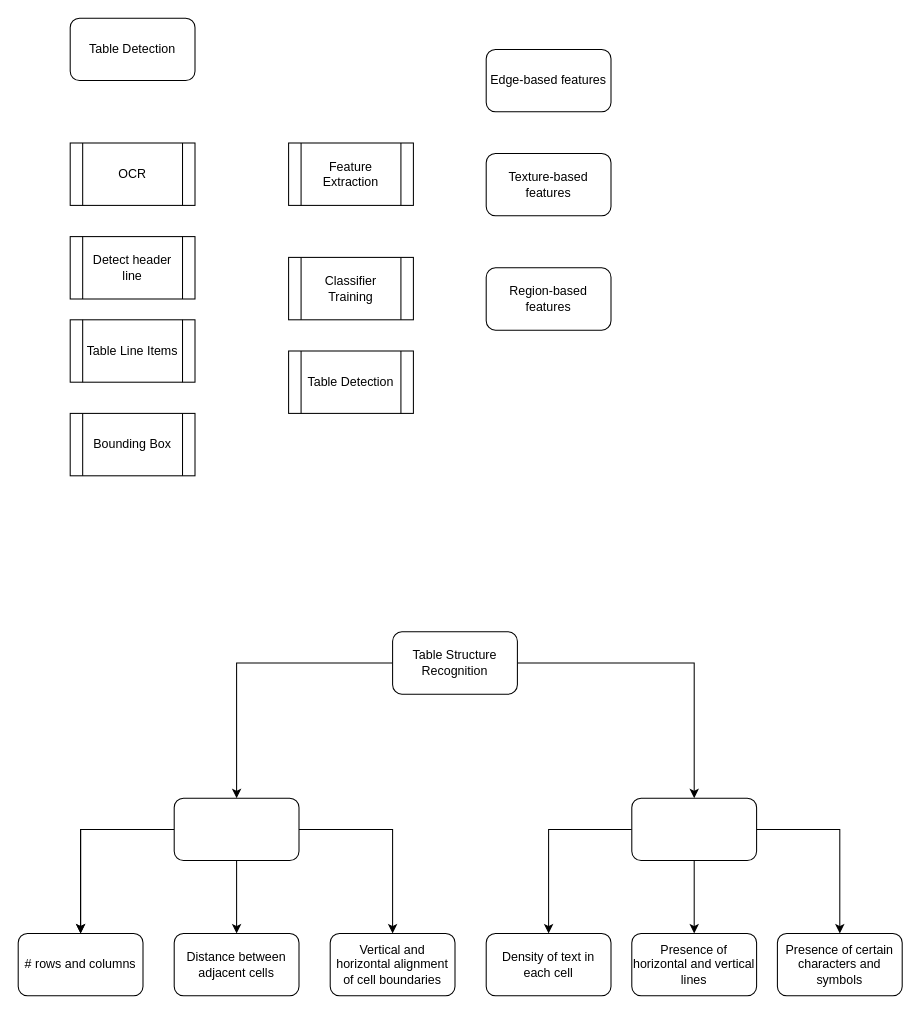
The diagram is 920 pixels wide and 1014 high, and some of its shapes have lost their labels. The shapes that lost their labels are listed below. From the top down, each one's box as (x1, y1, x2, y2) in pixels, then its label:
(173, 797, 299, 861): Structural Features
(631, 797, 757, 861): Content-based features
